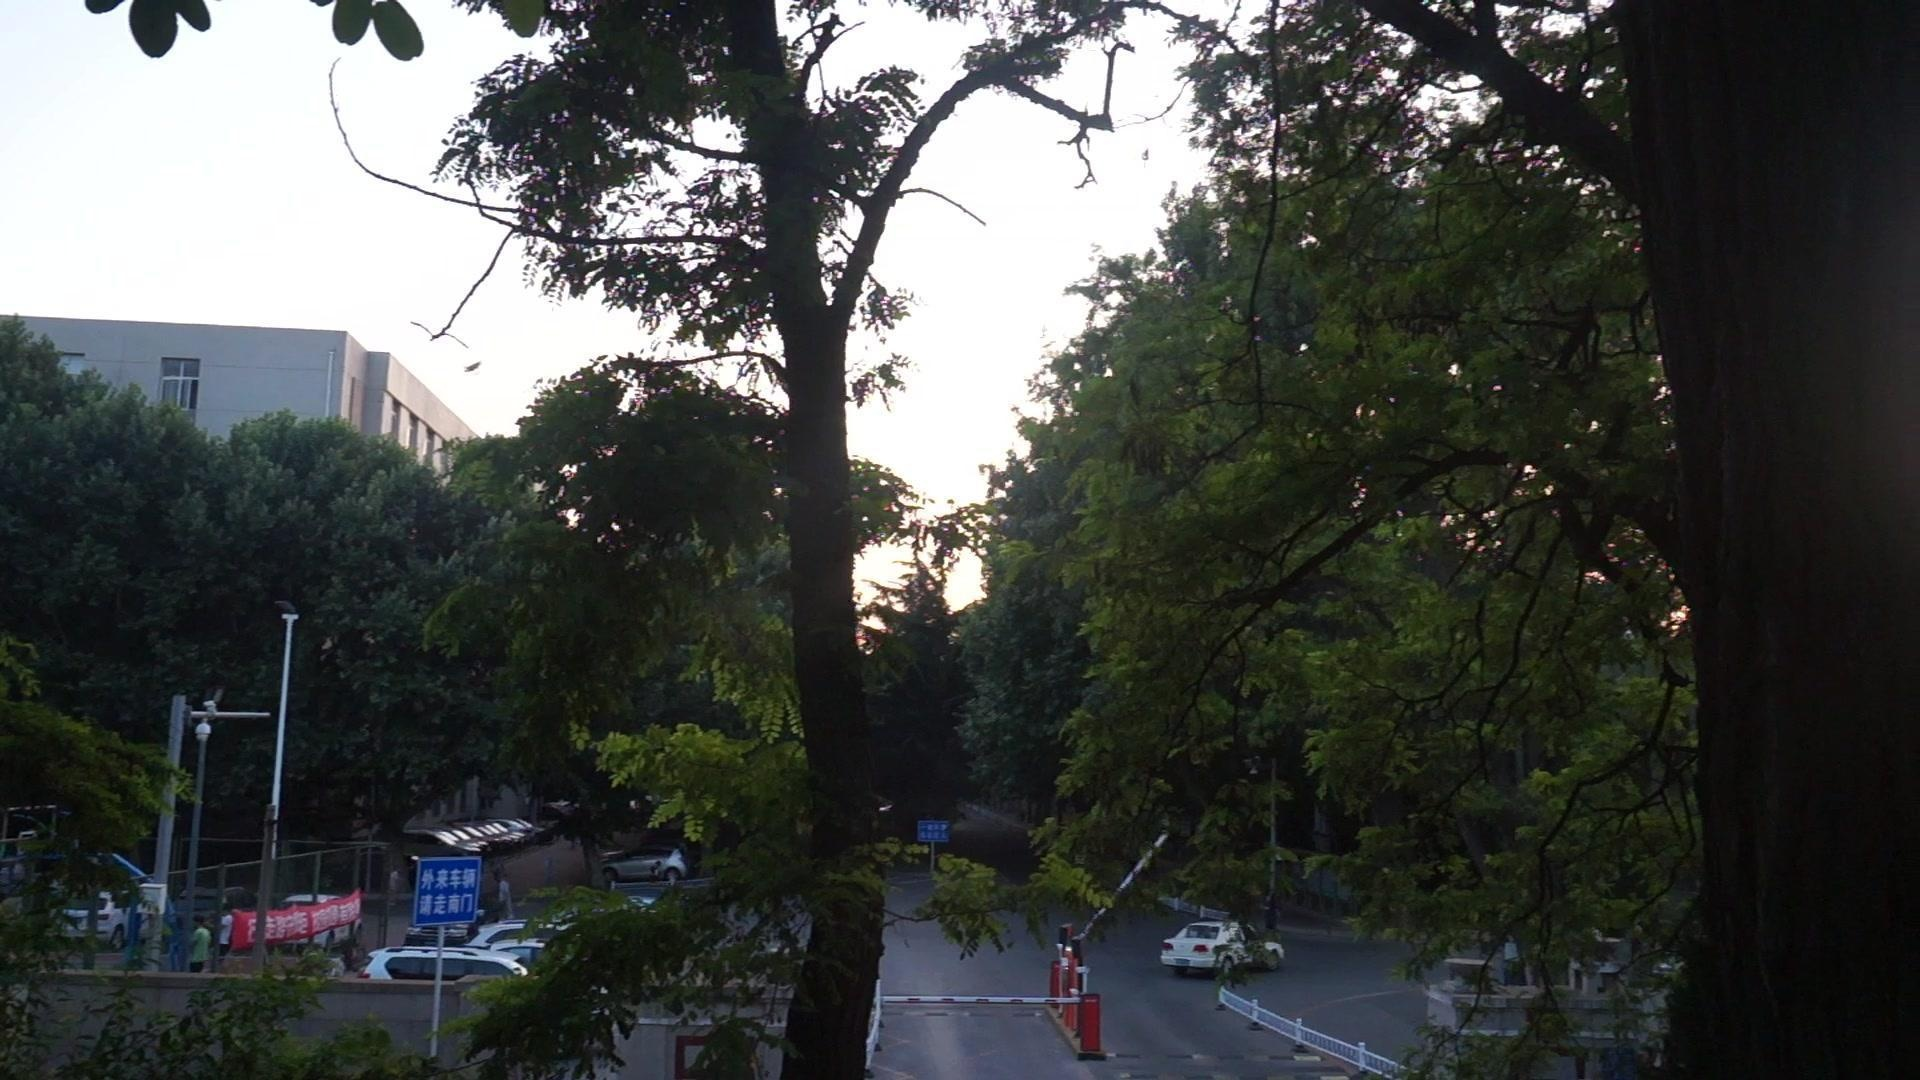UAV: (465, 361, 483, 373)
